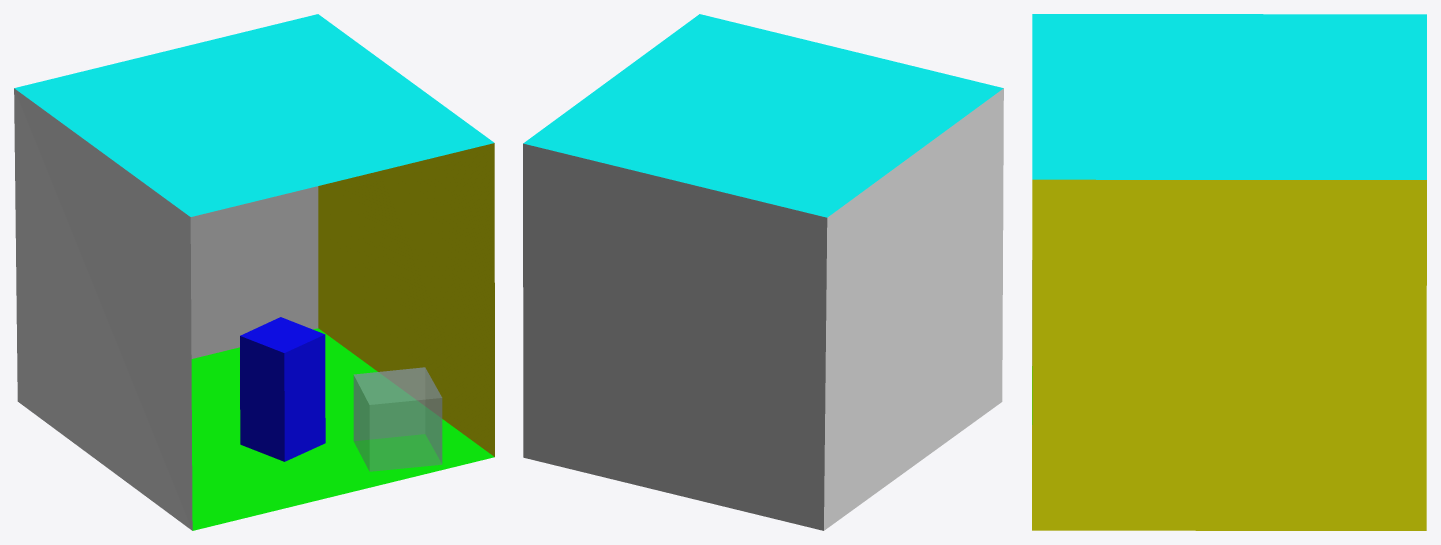
The model's file is ball.obj.
3 renders of one model, left to right at view 1: azimuth 30°, elevation 25°; view 2: azimuth 150°, elevation 25°; view 3: azimuth 270°, elevation 25°, orthographic. The views are drawn at different scales.
Parts seen in each view (by area): view 1: left_wall, ceiling, right_wall, floor, back_wall, tall_box, short_box; view 2: back_wall, left_wall, ceiling; view 3: right_wall, ceiling.
Boxes of the visible parts, left/top/right/bottom form: left_wall: left=14, top=88, right=192, bottom=530; ceiling: left=14, top=14, right=494, bottom=216; right_wall: left=318, top=143, right=494, bottom=456; floor: left=191, top=328, right=494, bottom=530; back_wall: left=190, top=186, right=318, bottom=358; tall_box: left=240, top=317, right=325, bottom=461; short_box: left=353, top=367, right=442, bottom=471; back_wall: left=523, top=143, right=827, bottom=530; left_wall: left=824, top=88, right=1003, bottom=530; ceiling: left=523, top=14, right=1003, bottom=217; right_wall: left=1032, top=179, right=1426, bottom=530; ceiling: left=1032, top=14, right=1426, bottom=179.
Bounding box in the file's own units: 5.56 × 5.49 × 5.6.
